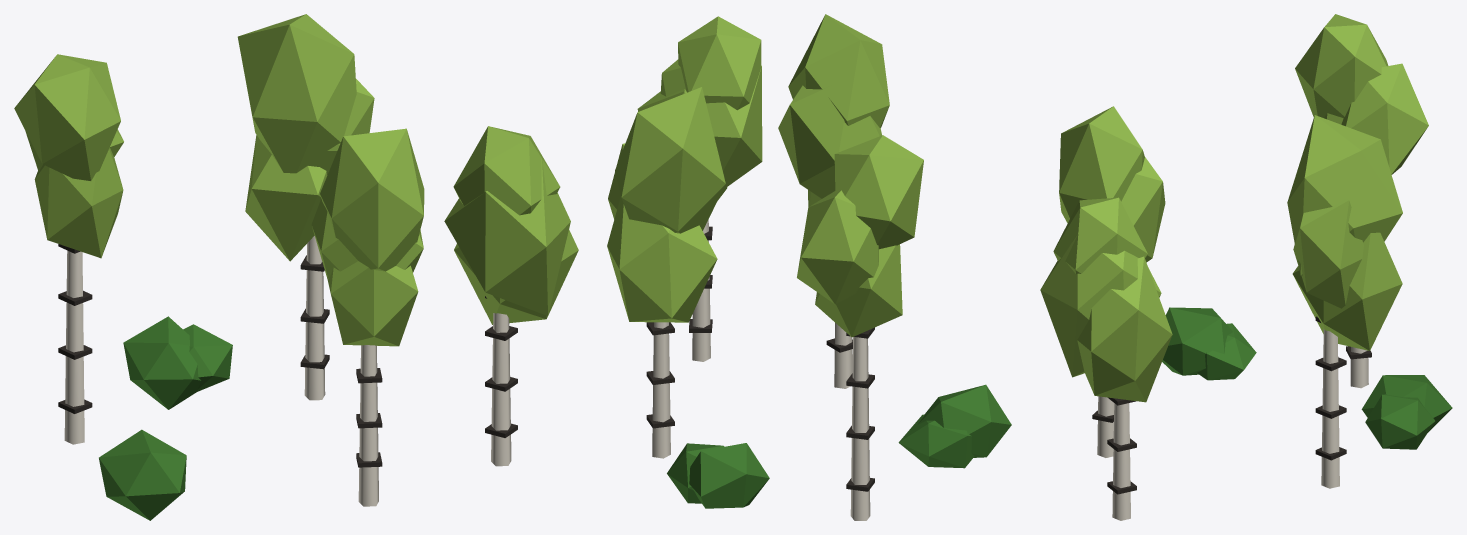
File: sawyer_birch_copse_c.glb
3 views of the same model, side by side, from view 1: azimuth 30°, elevation 25°; view 2: azimuth 150°, elevation 25°; view 3: azimuth 270°, elevation 25° (orthographic). The views are drawn at different scales.
Parts seen in each view (by area): view 1: birch_0_crown2, birch_2_crown2, birch_1_crown1, birch_3_crown2, birch_3_crown0, birch_2_crown0, birch_1_crown2, birch_0_crown0, bush_4_leaves1, bush_5_leaves0, birch_3_trunk, birch_2_trunk (+6 smaller); view 2: birch_0_crown2, birch_0_crown0, birch_3_crown2, birch_2_crown2, birch_3_crown1, birch_2_crown1, birch_1_crown2, birch_1_crown1, bush_5_leaves0, birch_3_crown0, bush_4_leaves1, birch_3_trunk (+5 smaller); view 3: birch_0_crown2, birch_1_crown0, birch_2_crown2, birch_3_crown2, birch_0_crown0, birch_1_crown1, birch_0_crown1, birch_3_crown1, birch_1_crown2, bush_4_leaves1, bush_5_leaves1, birch_2_crown1 (+6 smaller).
Boxes of the visible parts, x1,y1,x2,y2 form: birch_0_crown2: [237, 14, 356, 173]; birch_2_crown2: [320, 128, 424, 271]; birch_1_crown1: [444, 158, 570, 315]; birch_3_crown2: [14, 54, 120, 180]; birch_3_crown0: [34, 147, 123, 258]; birch_2_crown0: [327, 261, 418, 346]; birch_1_crown2: [453, 126, 560, 215]; birch_0_crown0: [245, 135, 327, 261]; bush_4_leaves1: [99, 429, 186, 520]; bush_5_leaves0: [123, 316, 201, 409]; birch_3_trunk: [64, 250, 84, 444]; birch_2_trunk: [358, 345, 378, 506]; birch_0_crown2: [615, 87, 725, 233]; birch_0_crown0: [607, 196, 717, 322]; birch_3_crown2: [834, 135, 923, 249]; birch_2_crown2: [788, 14, 889, 127]; birch_3_crown1: [797, 190, 878, 304]; birch_2_crown1: [778, 84, 881, 198]; birch_1_crown2: [678, 16, 761, 110]; birch_1_crown1: [660, 59, 762, 189]; bush_5_leaves0: [689, 443, 769, 508]; birch_3_crown0: [815, 244, 902, 337]; bush_4_leaves1: [917, 384, 1011, 457]; birch_3_trunk: [850, 337, 870, 520]; birch_0_crown2: [1287, 115, 1402, 275]; birch_1_crown0: [1077, 256, 1172, 402]; birch_2_crown2: [1059, 106, 1144, 223]; birch_3_crown2: [1295, 14, 1388, 117]; birch_0_crown0: [1292, 232, 1402, 350]; birch_1_crown1: [1040, 233, 1161, 377]; birch_0_crown1: [1293, 198, 1363, 308]; birch_3_crown1: [1341, 63, 1428, 174]; birch_1_crown2: [1053, 197, 1147, 274]; bush_4_leaves1: [1162, 307, 1232, 375]; bush_5_leaves1: [1365, 394, 1435, 449]; birch_2_crown1: [1121, 157, 1165, 262].
Size of the model in its own units: 3.99 by 3.6 by 3.76.
